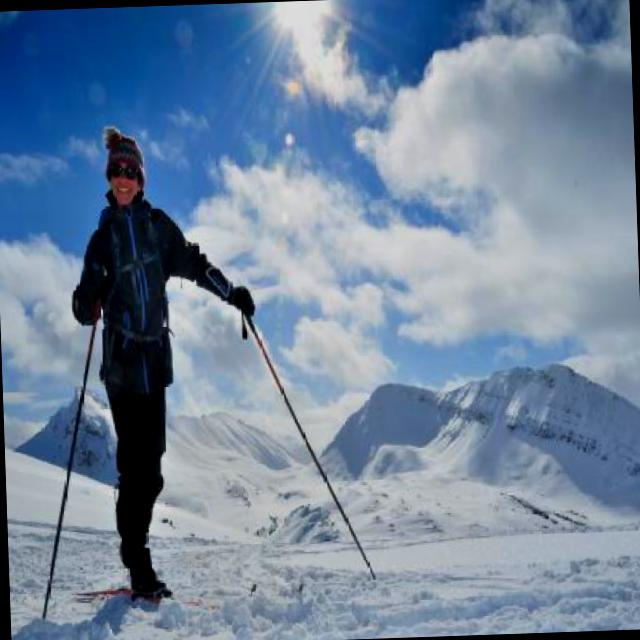Person: (66, 121, 265, 598)
